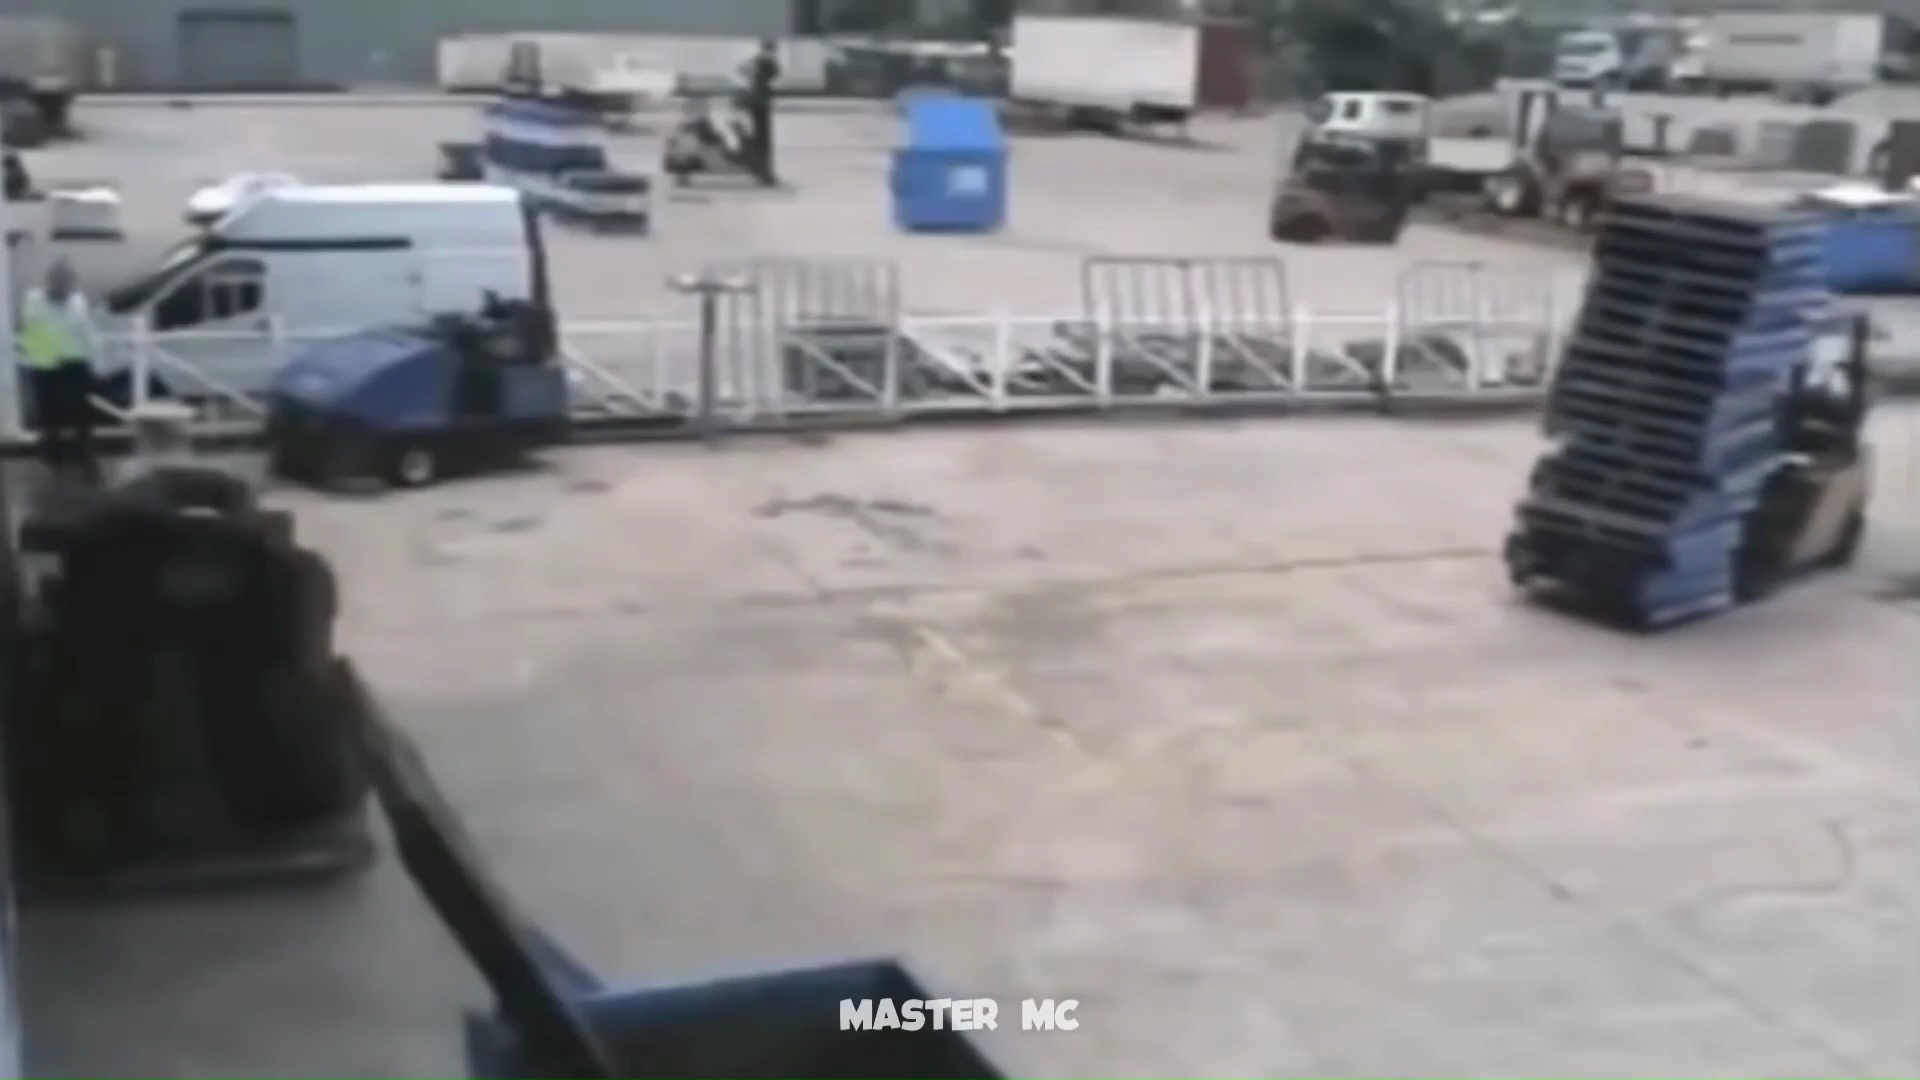forklift: (1501, 203, 1865, 632), (7, 459, 360, 891)
